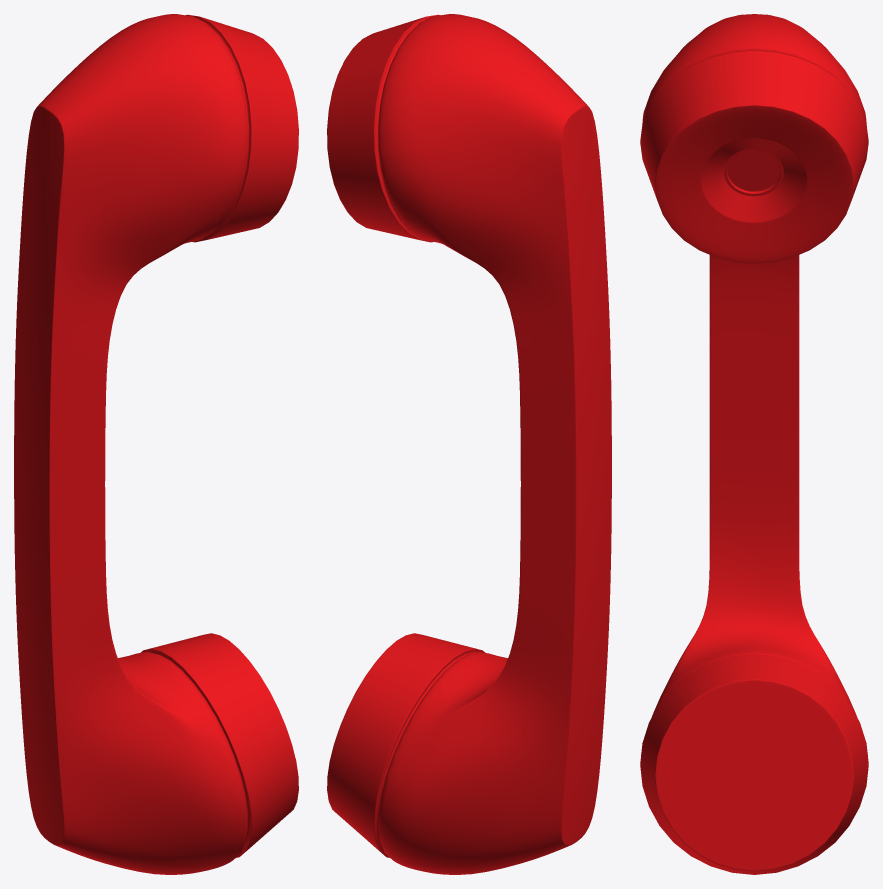
The model's file is phone.glb.
The picture shows the model from 3 angles, left to right: view 1: azimuth 30°, elevation 25°; view 2: azimuth 150°, elevation 25°; view 3: azimuth 270°, elevation 25°; orthographic projection.
Visible parts, largest first — view 1: model_3.011; view 2: model_3.011; view 3: model_3.011.
Part boxes in pixels (x1,y1,x2,y2): model_3.011: (14, 14, 298, 874); model_3.011: (327, 14, 611, 874); model_3.011: (640, 14, 868, 874).
Size of the model in its own units: 0.5865 by 2.02 by 0.4999.
